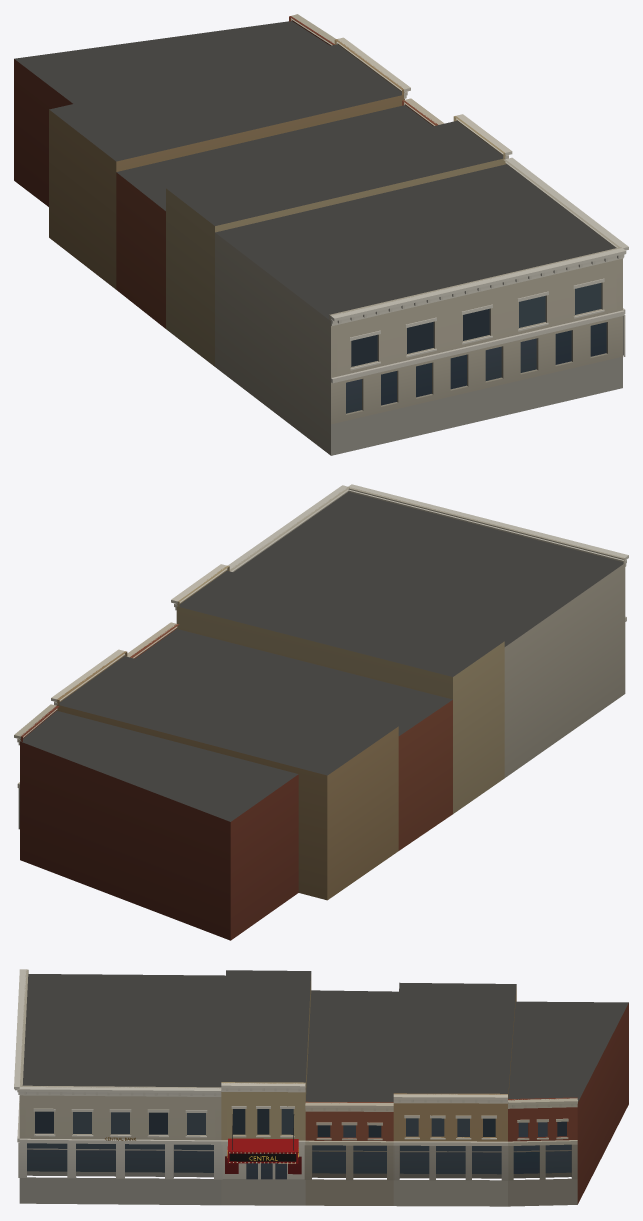
File: storefronts.glb
3 views of the same model, one above another, from view 1: azimuth 30°, elevation 25°; view 2: azimuth 150°, elevation 25°; view 3: azimuth 270°, elevation 25° (orthographic). The views are drawn at different scales.
Parts seen in each view (by area): view 1: storefronts_lod0; view 2: storefronts_lod0; view 3: storefronts_lod0.
Part boxes in pixels (<box>): storefronts_lod0: <box>14,14,628,455</box>; storefronts_lod0: <box>14,484,628,940</box>; storefronts_lod0: <box>14,969,628,1206</box>.
Size of what is drawn, in the model's own units: 32.42 by 13.9 by 63.5.
